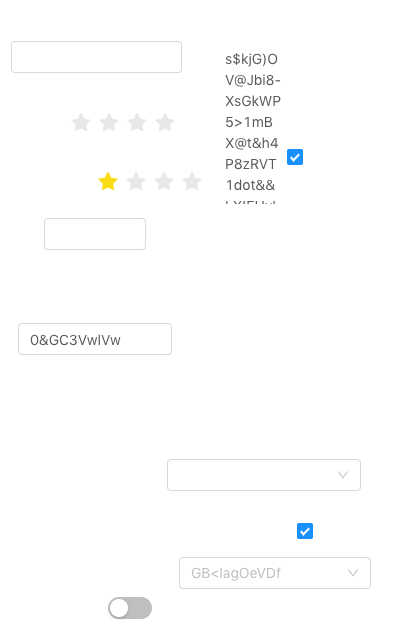Checkbox: (297, 520, 313, 541), (287, 146, 303, 167)
Input: (11, 41, 182, 73), (18, 323, 172, 355), (44, 218, 146, 250)
Rate: (71, 106, 191, 138), (98, 165, 218, 197)
Select: (167, 459, 361, 491), (179, 557, 371, 589)
Switch: (108, 596, 152, 620)
Text: (225, 48, 281, 204)
